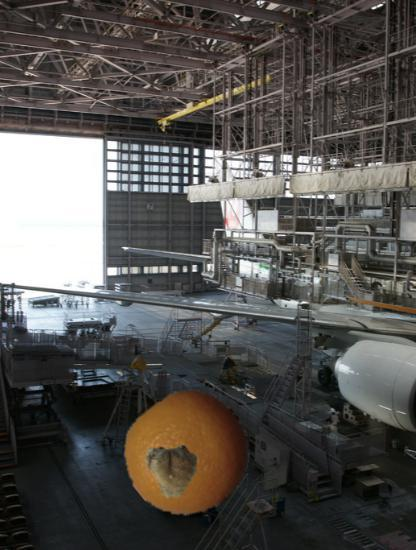Ginger: (142, 443, 197, 498)
Orange: (125, 392, 250, 517)
